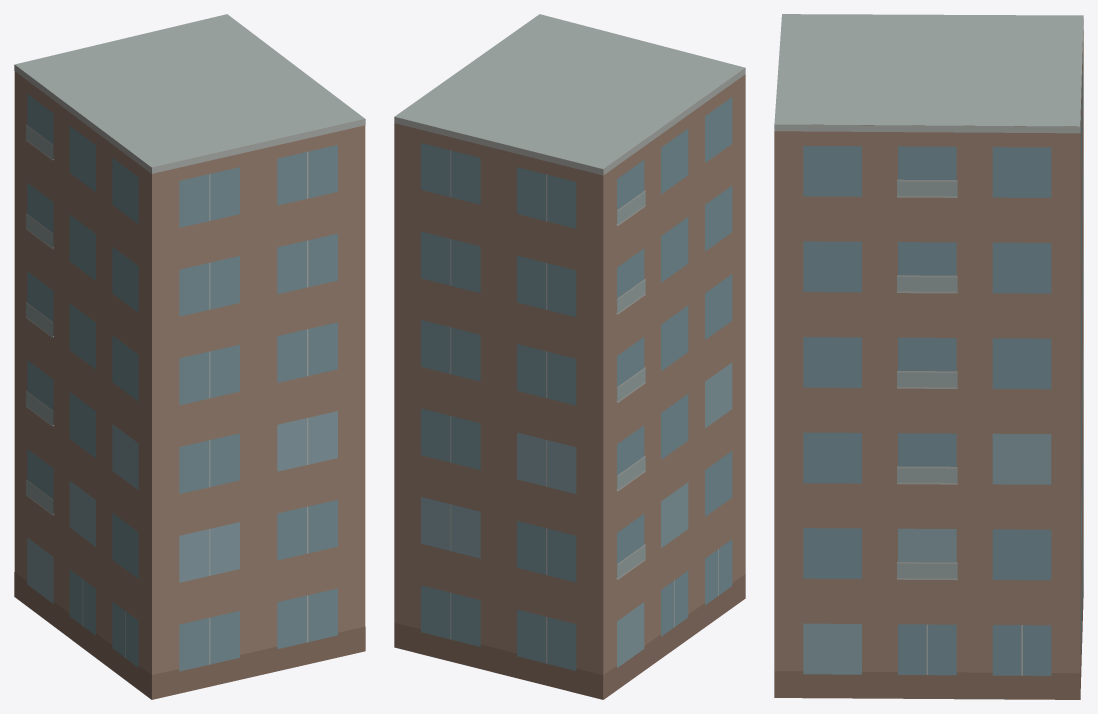
The model's file is survey-upis-32871290.glb.
The picture shows the model from 3 angles, left to right: view 1: azimuth 30°, elevation 25°; view 2: azimuth 150°, elevation 25°; view 3: azimuth 270°, elevation 25°; orthographic projection. The views are drawn at different scales.
Visible parts, largest first — view 1: survey-upis-32871290.tmp; view 2: survey-upis-32871290.tmp; view 3: survey-upis-32871290.tmp.
Boxes of the visible parts, x1,y1,x2,y2 form: survey-upis-32871290.tmp: (14,14,365,699); survey-upis-32871290.tmp: (394,14,745,699); survey-upis-32871290.tmp: (774,14,1083,699).
Size of the model in its own units: 8.61 by 20.45 by 10.01.
